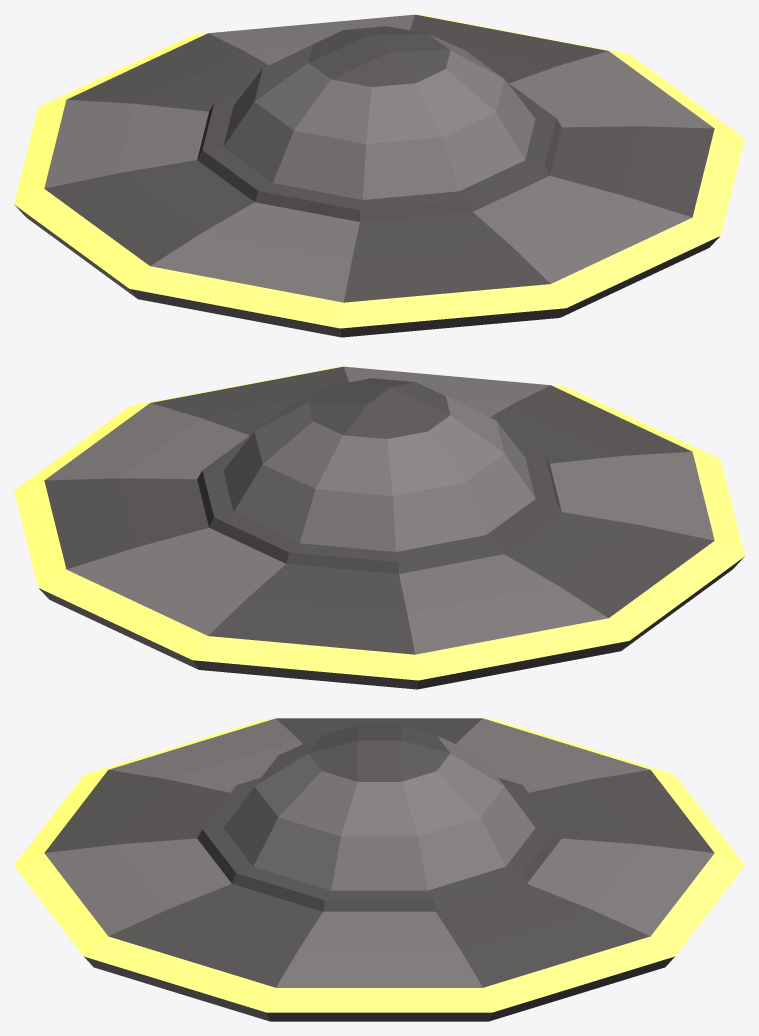
Rendered from ufo.glb.
3 renders of one model, top to bottom at view 1: azimuth 30°, elevation 25°; view 2: azimuth 150°, elevation 25°; view 3: azimuth 270°, elevation 25°, orthographic. The views are drawn at different scales.
Visible parts, largest first — view 1: ufo; view 2: ufo; view 3: ufo.
Boxes of the visible parts, x1,y1,x2,y2 form: ufo: (14,14,744,337); ufo: (14,366,744,689); ufo: (14,718,744,1021).
Size of the model in its own units: 12.73 by 4.53 by 13.38.
1 material, 1 textured.
